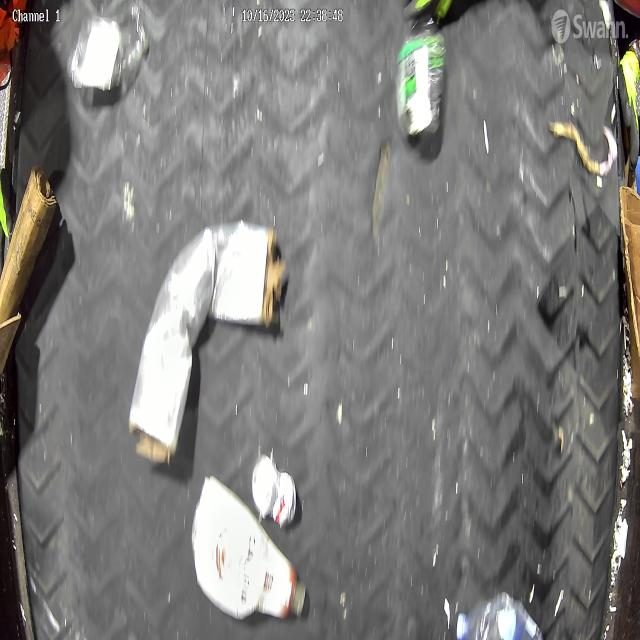can: (251, 452, 299, 528)
plastic_bottle: (456, 591, 544, 640)
